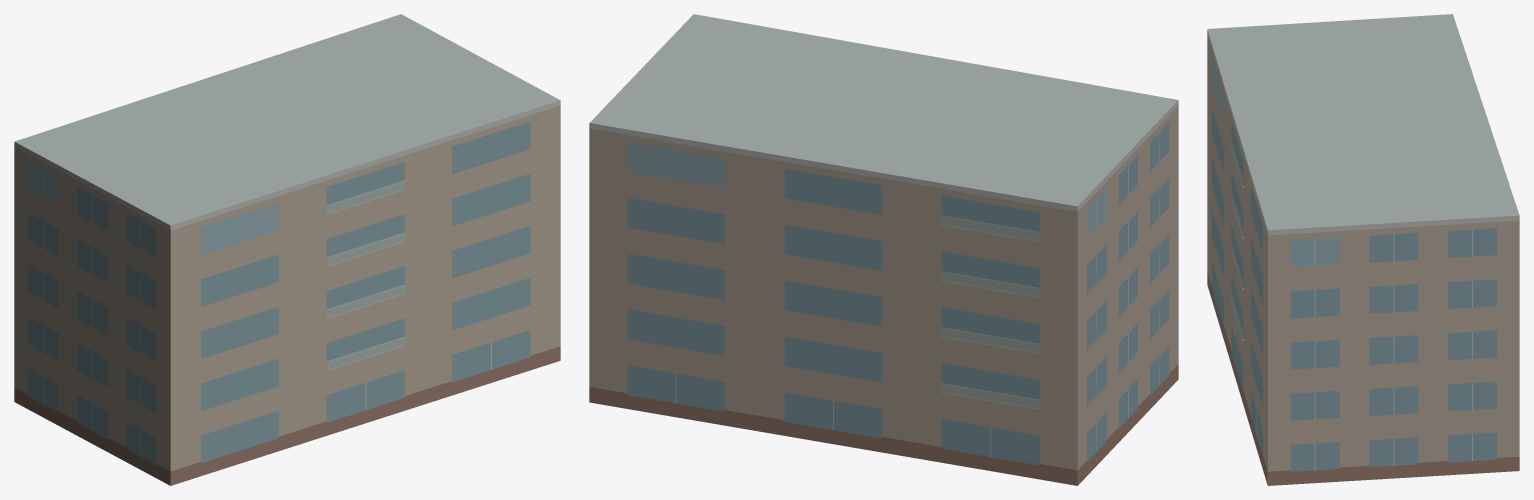
Rendered from survey-upis-32719556.glb.
The picture shows the model from 3 angles, left to right: view 1: azimuth 30°, elevation 25°; view 2: azimuth 150°, elevation 25°; view 3: azimuth 270°, elevation 25°; orthographic projection. The views are drawn at different scales.
Parts seen in each view (by area): view 1: survey-upis-32719556.tmp; view 2: survey-upis-32719556.tmp; view 3: survey-upis-32719556.tmp.
Boxes of the visible parts, <box> form: survey-upis-32719556.tmp: <box>14,14,560,485</box>; survey-upis-32719556.tmp: <box>589,14,1178,485</box>; survey-upis-32719556.tmp: <box>1207,14,1519,485</box>.
Size of the model in its own units: 22.54 by 12.4 by 13.75.
